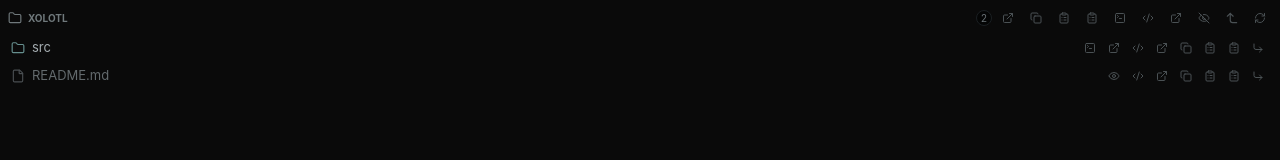
Test: DirectoryBrowser › shows recovery guidance when opening a file in the external editor fails
Click the button named "Open README.md in external editor".
click(1138, 76)  # box [1127,65,1149,87]
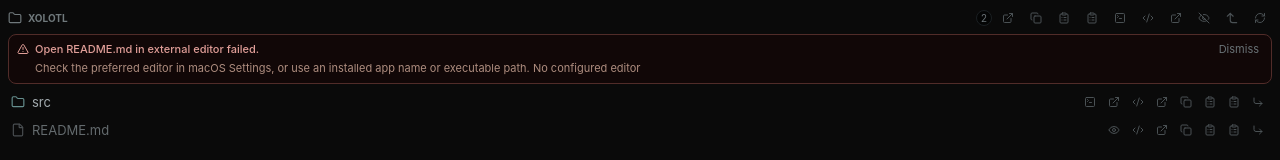
Now the text "Open README.md in external editor failed." is shown, box [35,42,259,56]
Now the text "No configured editor" is shown, box [35,60,640,74]
